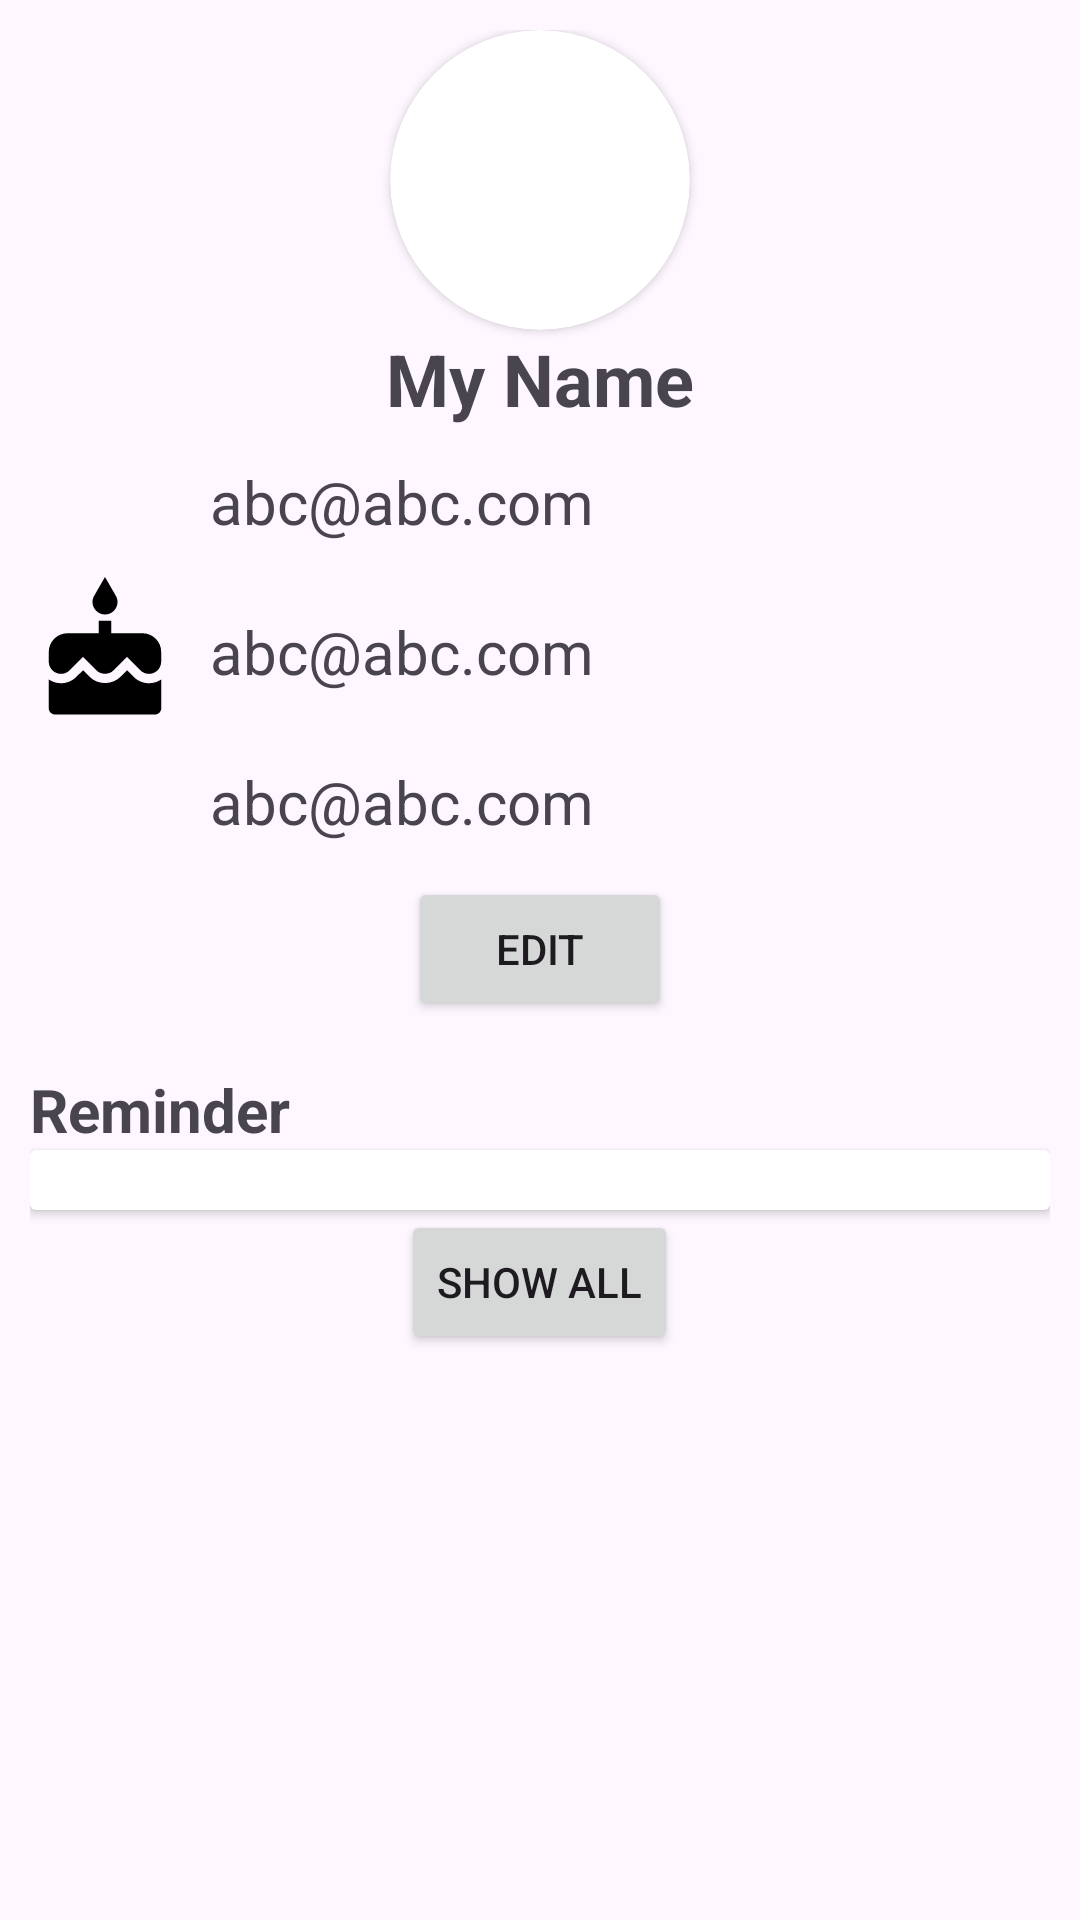

Screen size 1080×1920. Icon name, then its center in pixels as [x,y]:
cake: [105,646]
